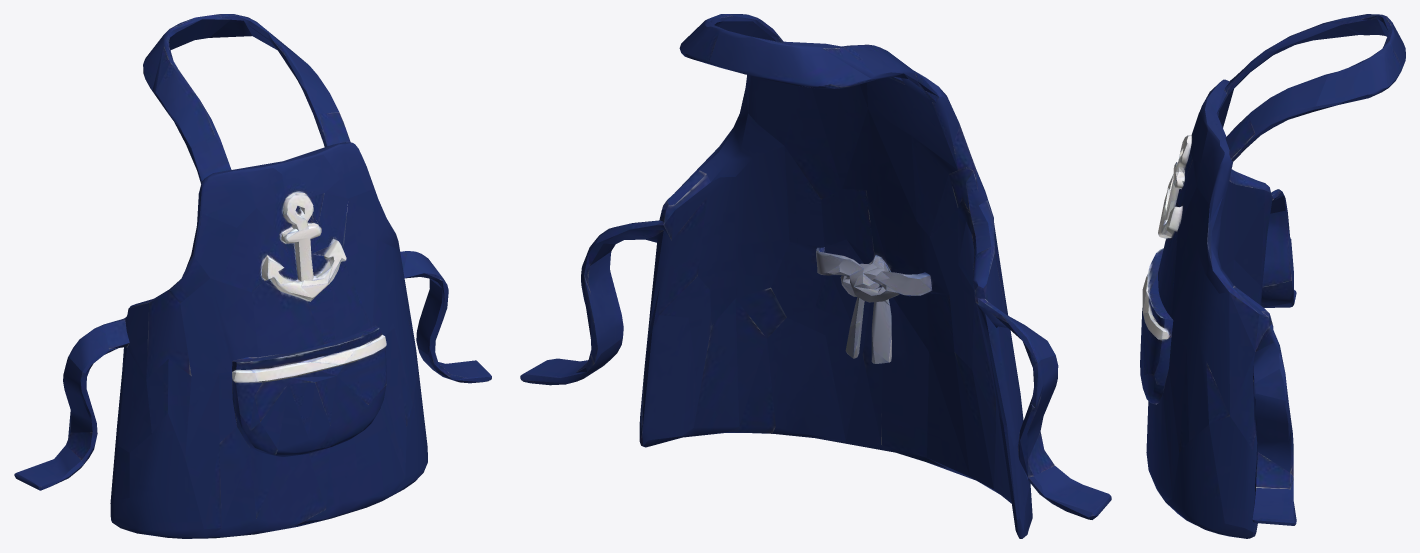
The model's file is apron_sailor.fbx.
3 views of the same model, side by side, from view 1: azimuth 30°, elevation 25°; view 2: azimuth 150°, elevation 25°; view 3: azimuth 270°, elevation 25° (orthographic). The views are drawn at different scales.
Visible parts, largest first — view 1: Mesh_0; view 2: Mesh_0; view 3: Mesh_0.
Part boxes in pixels (<box>): Mesh_0: <box>14,14,491,538</box>; Mesh_0: <box>520,14,1111,538</box>; Mesh_0: <box>1140,14,1405,538</box>.
Bounding box in the file's own units: 1.89 × 1.64 × 0.914.
Materials: 1 (1 with a texture image).
